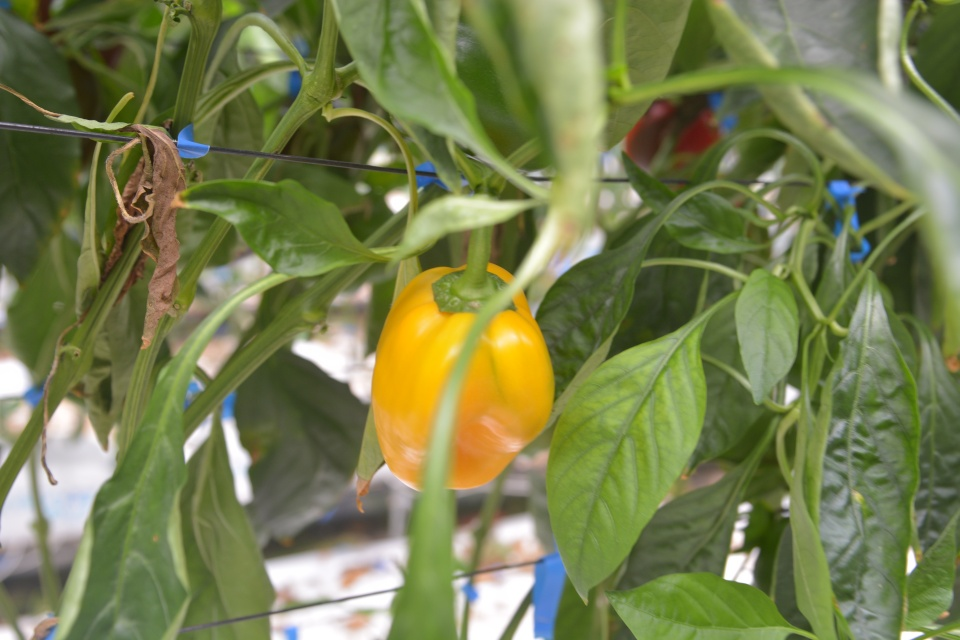fruit: (370, 255, 559, 500), (623, 93, 724, 190)
pedicle: (429, 264, 520, 319)
